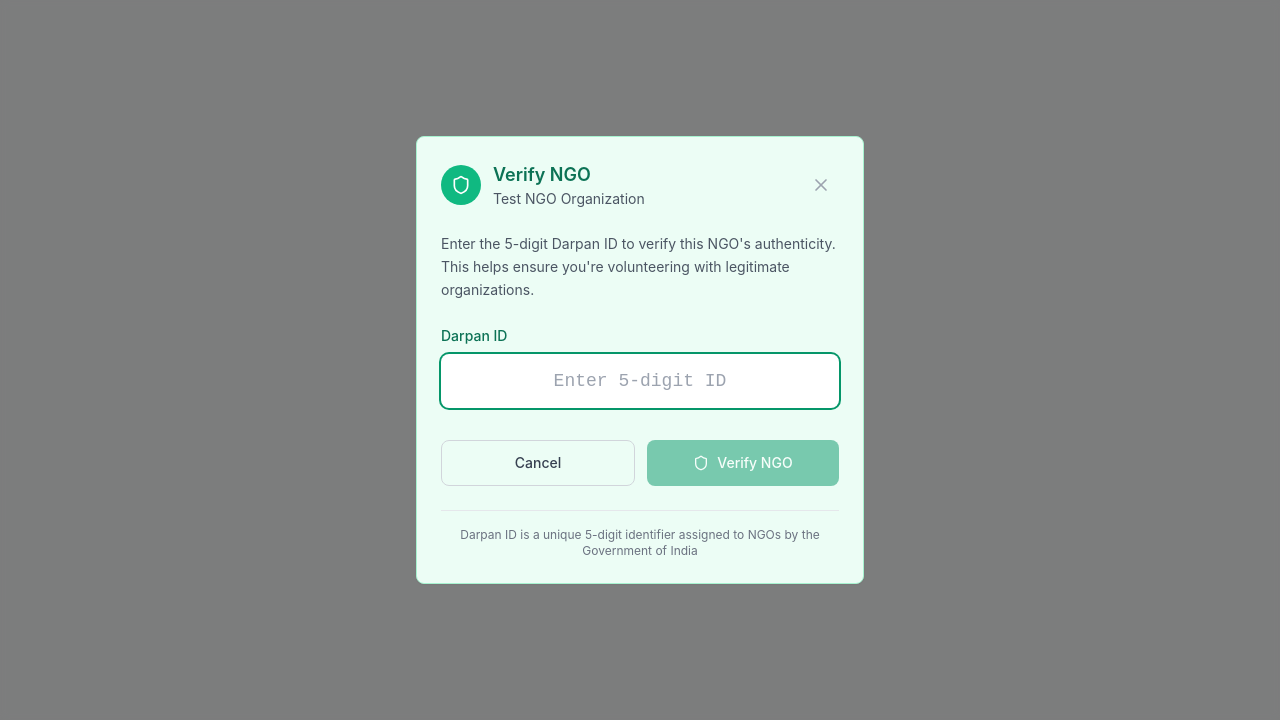
Test case: VerificationModal › shows error state after failed verification
In the field labelled "Darpan ID": (640, 381) [441,354,839,408], type "12345"
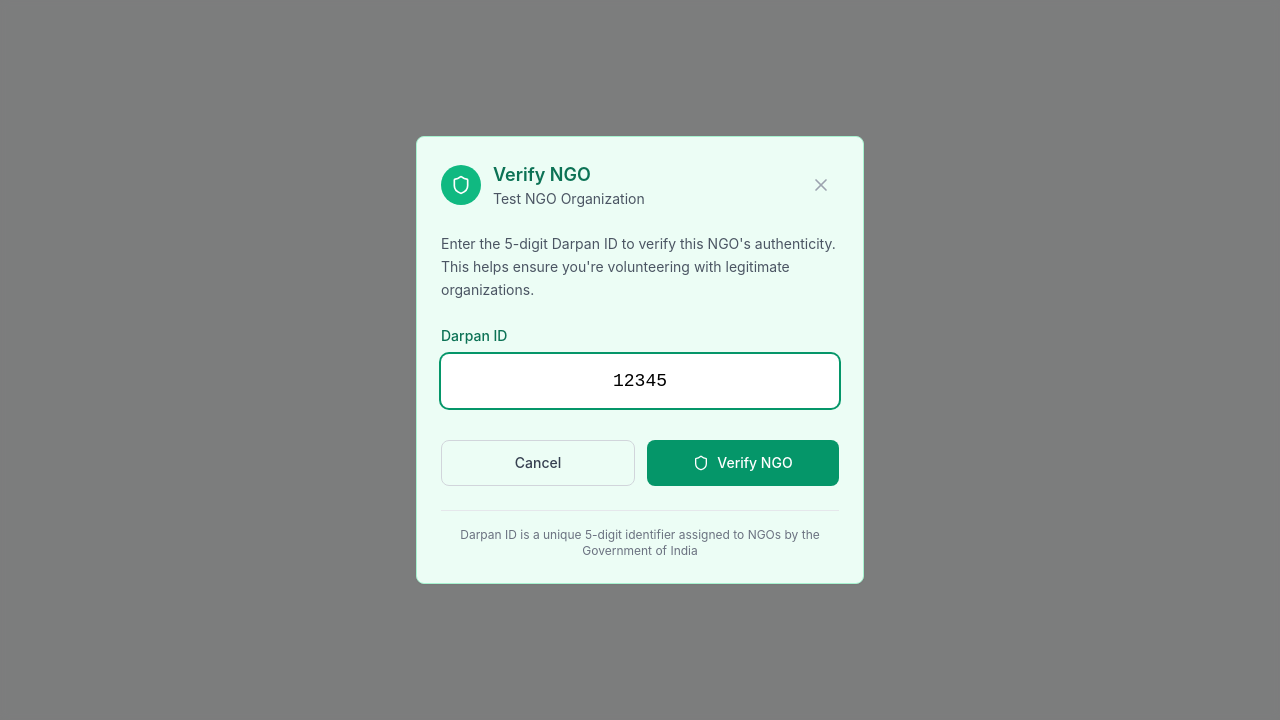
Click the button "Verify NGO": (743, 463) [647,440,839,486]
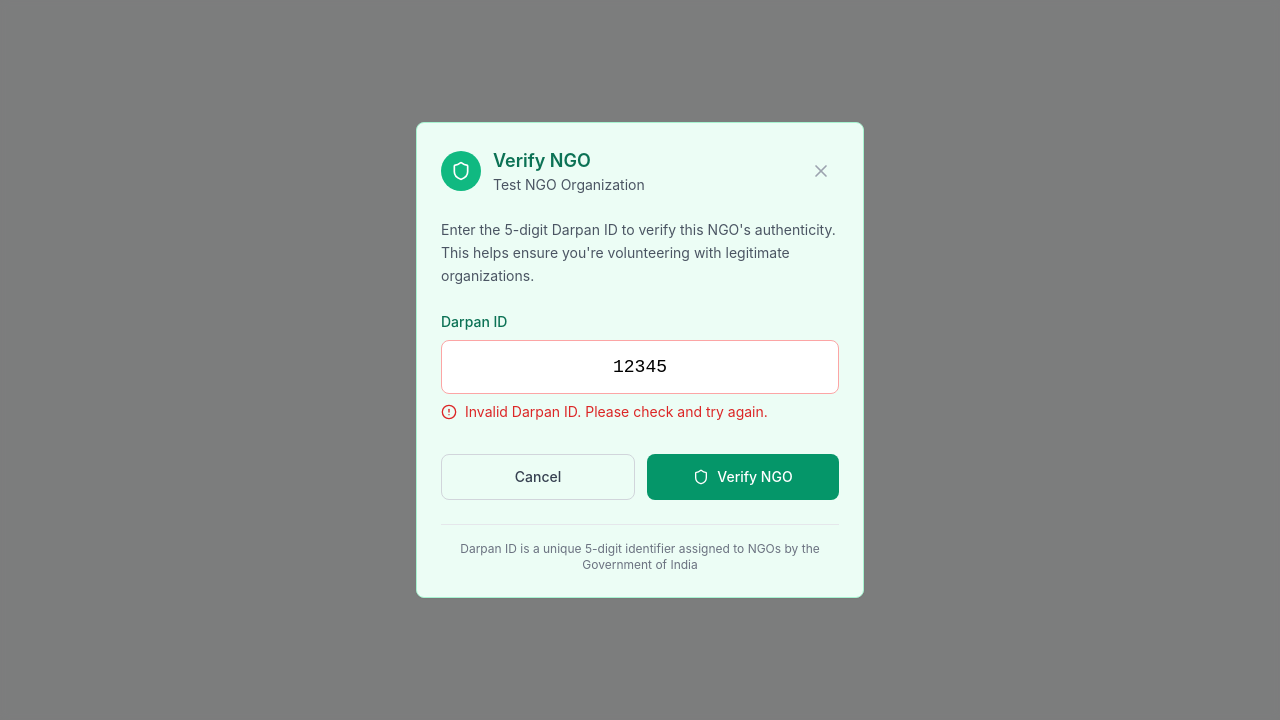
Expected: the text "Invalid Darpan ID. Please check and try again." is shown, [465,402,768,422]
